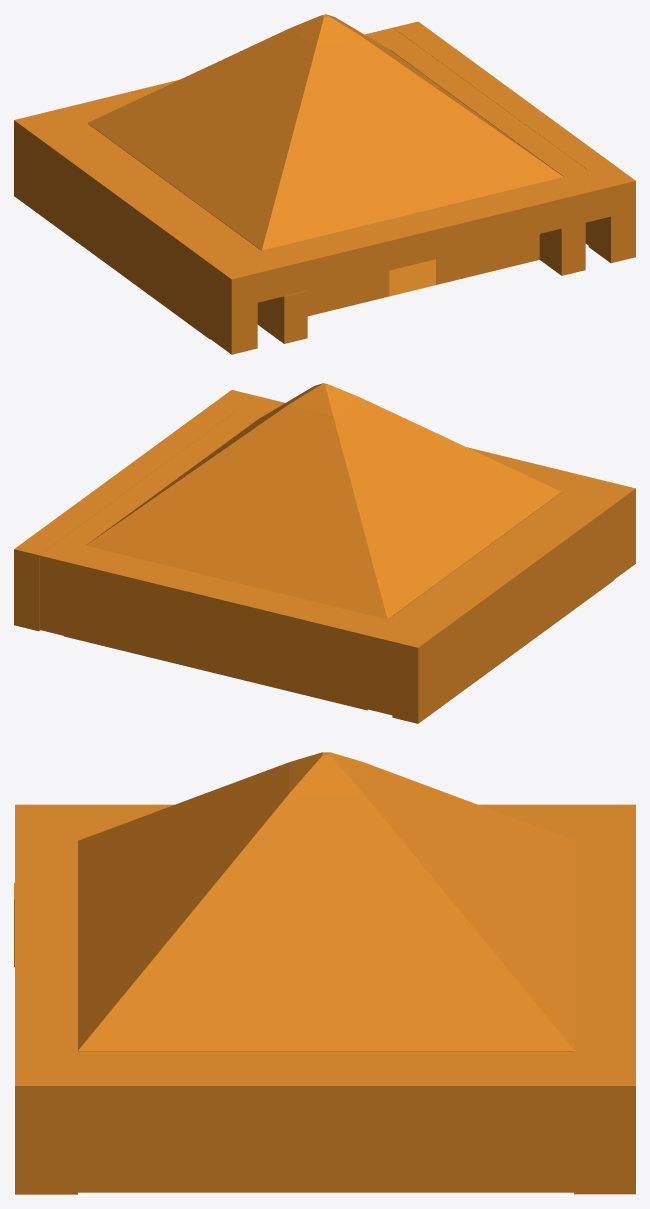
File: temple.fbx
3 renders of one model, top to bottom at view 1: azimuth 30°, elevation 25°; view 2: azimuth 150°, elevation 25°; view 3: azimuth 270°, elevation 25°, orthographic. The views are drawn at different scales.
Parts seen in each view (by area): view 1: Cube; view 2: Cube; view 3: Cube.
Part boxes in pixels (x1,y1,x2,y2): Cube: (14, 14, 635, 354); Cube: (14, 383, 635, 723); Cube: (14, 752, 635, 1194).
Size of what is drawn, in the model's own units: 1071 by 535 by 1001.
